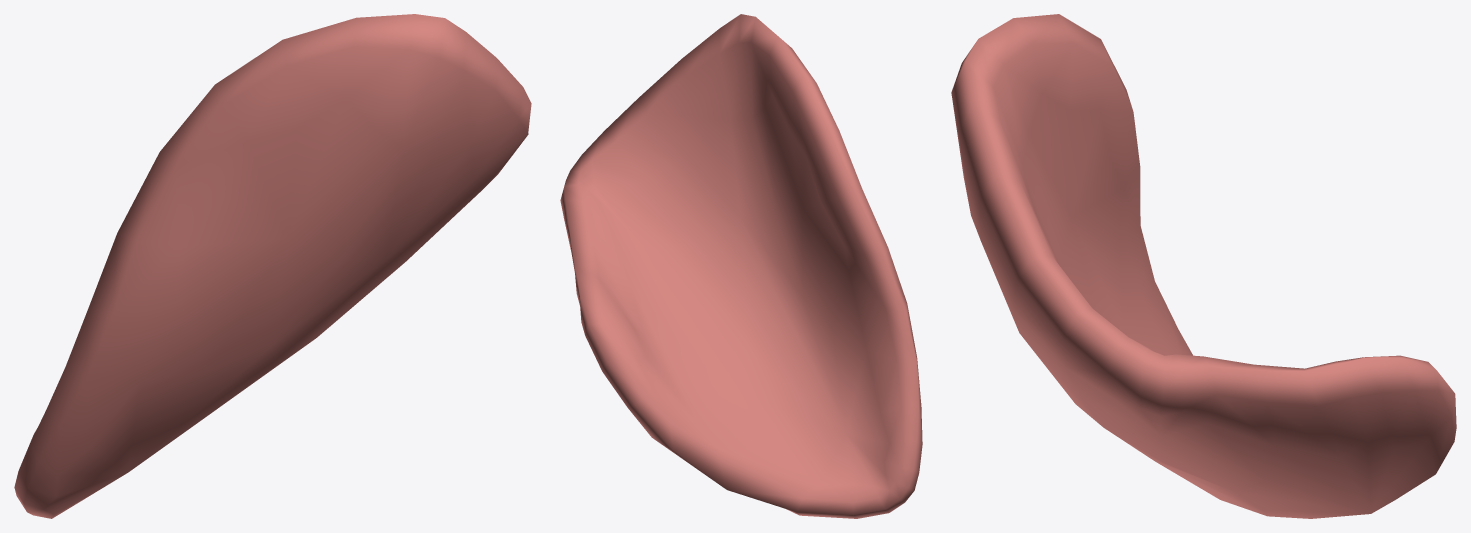
3 views of the same model, side by side, from view 1: azimuth 30°, elevation 25°; view 2: azimuth 150°, elevation 25°; view 3: azimuth 270°, elevation 25° (orthographic). The views are drawn at different scales.
Visible parts, largest first — view 1: ZA_d870fab67398abb3; view 2: ZA_d870fab67398abb3; view 3: ZA_d870fab67398abb3.
Boxes of the visible parts, x1,y1,x2,y2 form: ZA_d870fab67398abb3: (14,14,531,518); ZA_d870fab67398abb3: (560,14,922,518); ZA_d870fab67398abb3: (951,14,1456,518).
Size of the model in its own units: 0.00484 by 0.00496 by 0.00375.
